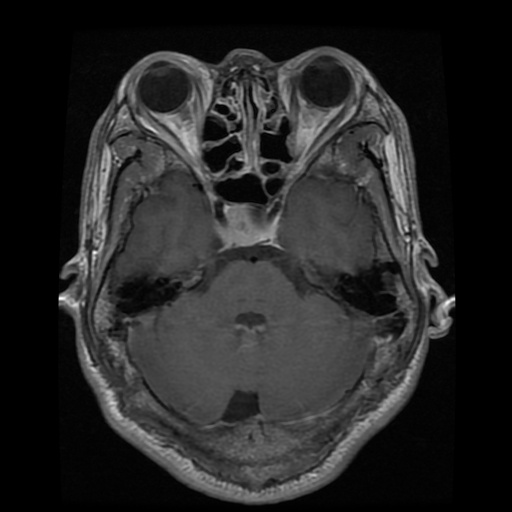pituitary: (227, 203, 272, 242)
